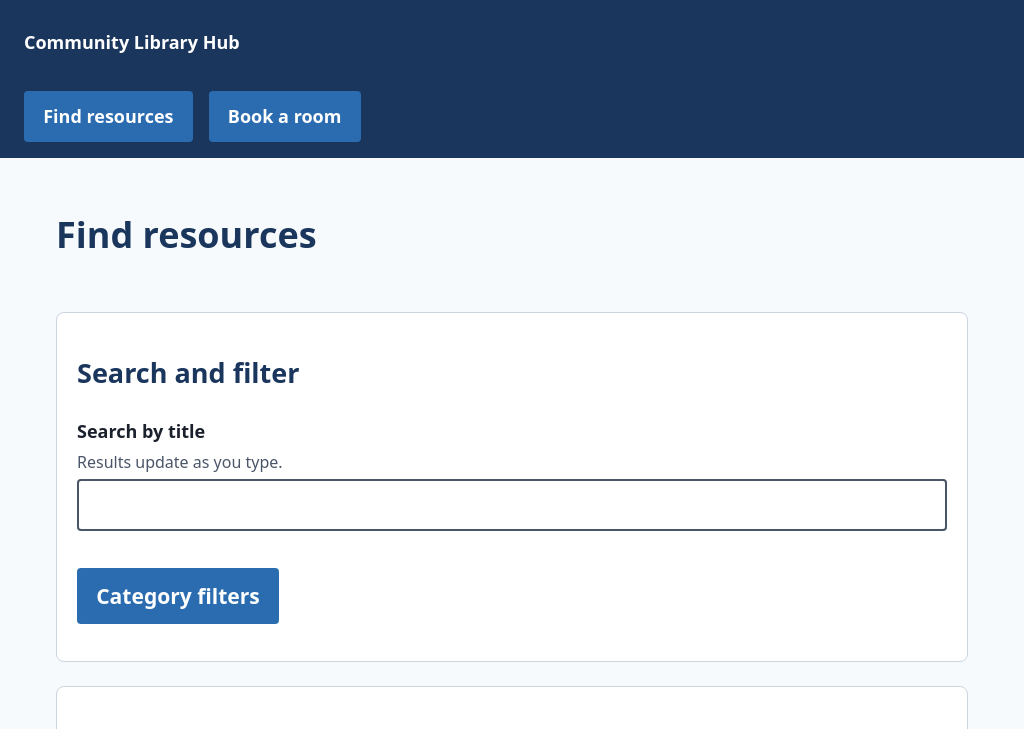
Test: category chip toggles aria-pressed and filters results
Click the button "Category filters".
click(178, 596)  # box 77,568 -> 279,624
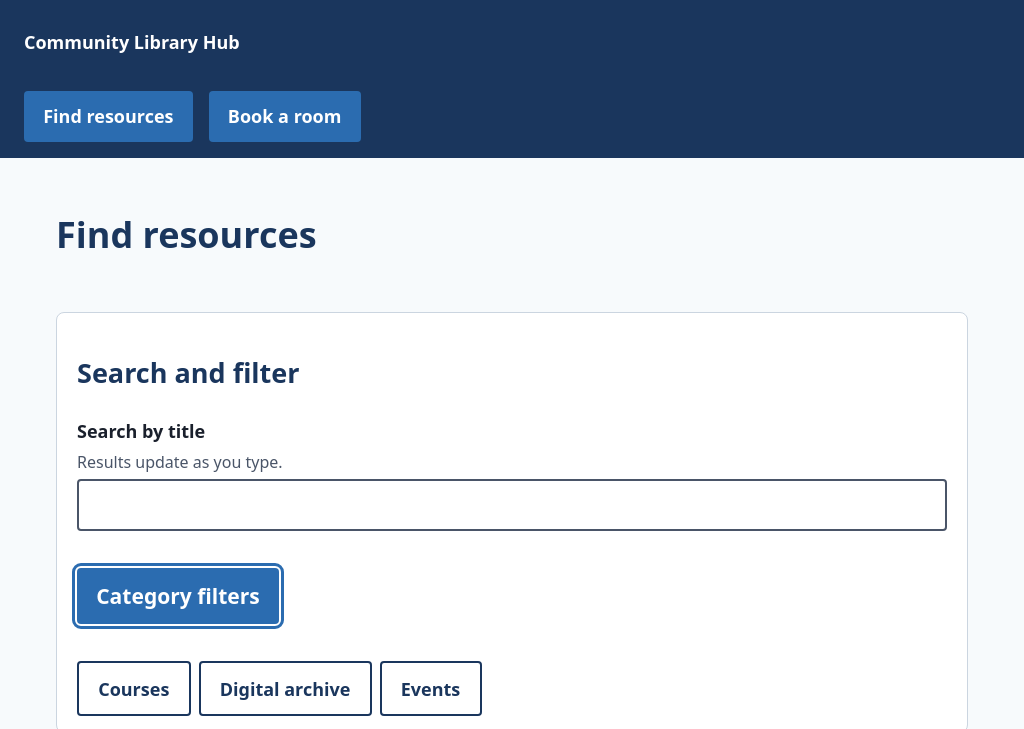
Click the button "Events".
click(431, 689)  # box 380,661 -> 482,716
(page scrolled)
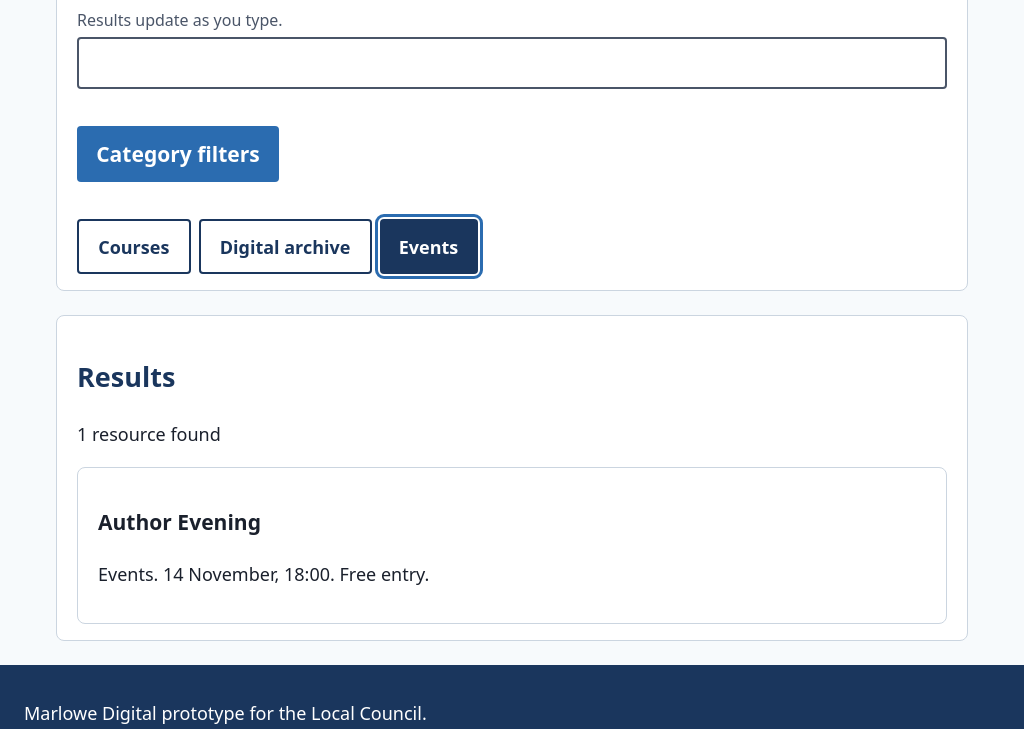
Check: the text "1 resource found" is shown, box 77,422 -> 221,446
